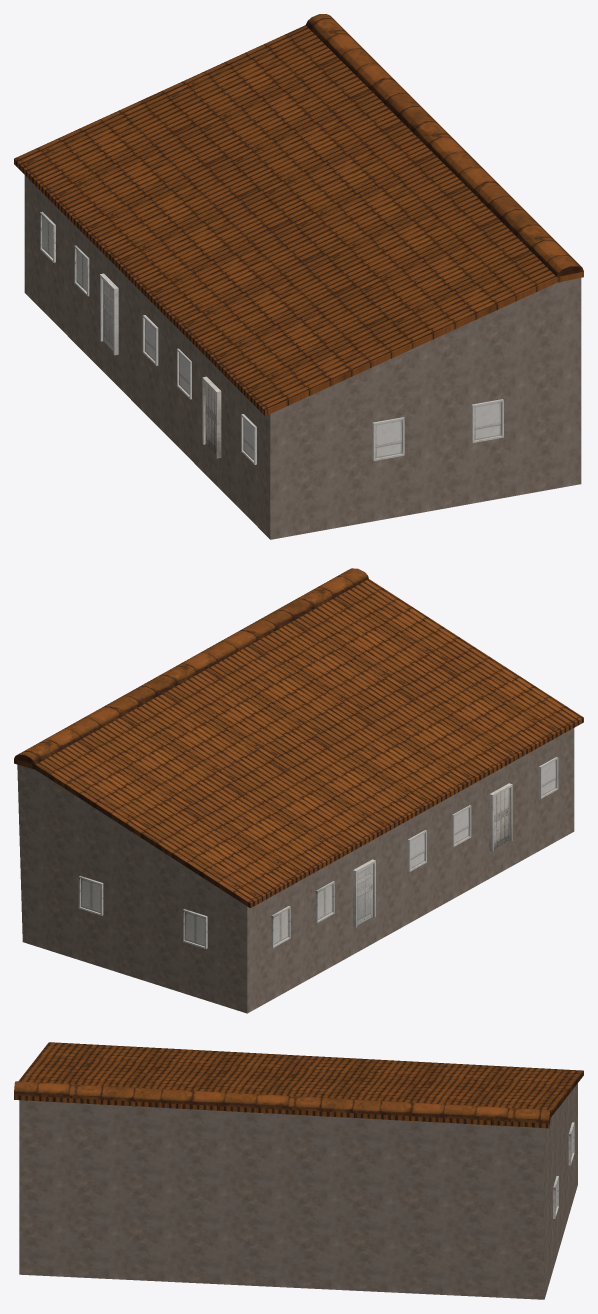
File: Casa_26.fbx
3 renders of one model, top to bottom at view 1: azimuth 30°, elevation 25°; view 2: azimuth 150°, elevation 25°; view 3: azimuth 270°, elevation 25°, orthographic. The views are drawn at different scales.
Visible parts, largest first — view 1: Casa_26; view 2: Casa_26; view 3: Casa_26.
Part boxes in pixels (x1=…): Casa_26: x1=14, y1=14, x2=583, y2=539; Casa_26: x1=14, y1=568, x2=583, y2=1013; Casa_26: x1=14, y1=1042, x2=583, y2=1299.
Size of the model in its own units: 11.64 by 6.75 by 18.74.
